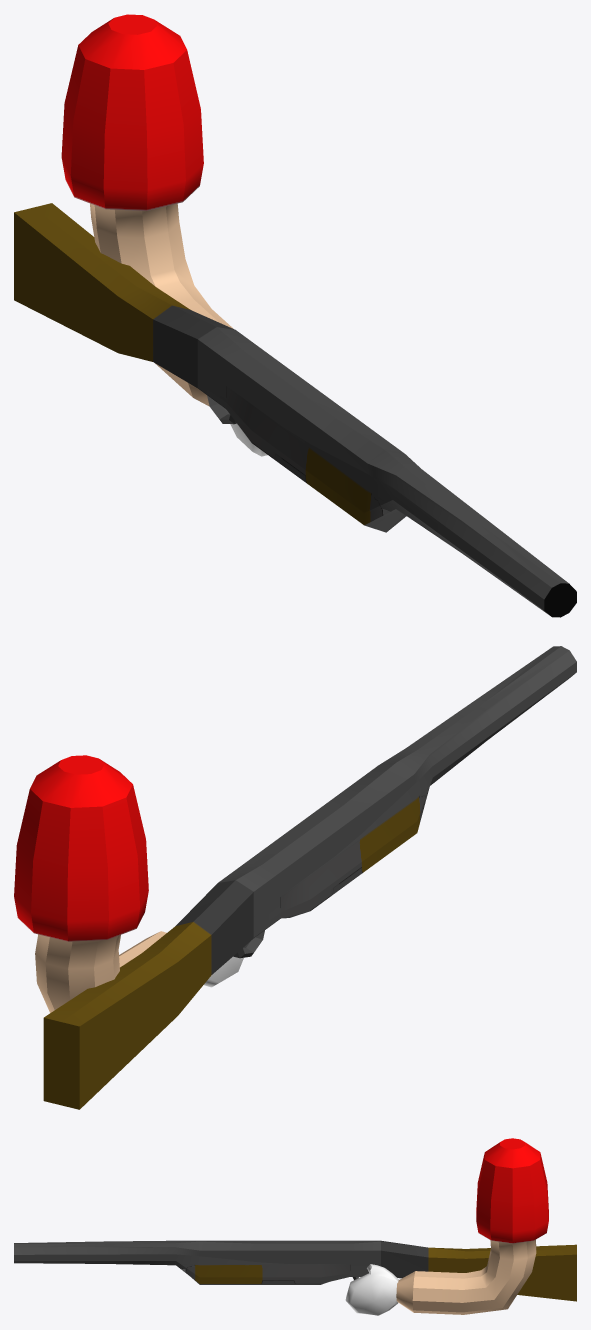
Rendered from sg_ojosama_L_r.obj.
3 renders of one model, top to bottom at view 1: azimuth 30°, elevation 25°; view 2: azimuth 150°, elevation 25°; view 3: azimuth 270°, elevation 25°, orthographic. The views are drawn at different scales.
Visible parts, largest first — view 1: L pasted__pCylinder1 pasted__group1 group6, pCylinder4 group5 L L; view 2: L pasted__pCylinder1 pasted__group1 group6, pCylinder4 group5 L L; view 3: L pasted__pCylinder1 pasted__group1 group6, pCylinder4 group5 L L, group5 L L pasted__pCube3.
Part boxes in pixels (box(x1,y1,x2,y2)): L pasted__pCylinder1 pasted__group1 group6: box(14, 203, 576, 617); pCylinder4 group5 L L: box(61, 14, 233, 406); L pasted__pCylinder1 pasted__group1 group6: box(43, 646, 576, 1109); pCylinder4 group5 L L: box(14, 755, 166, 1012); L pasted__pCylinder1 pasted__group1 group6: box(14, 1240, 576, 1301); pCylinder4 group5 L L: box(396, 1138, 548, 1314); group5 L L pasted__pCube3: box(345, 1264, 398, 1315).
Bounding box in the file's own units: 0.2246 × 0.5598 × 1.66.
1 material, 1 textured.
